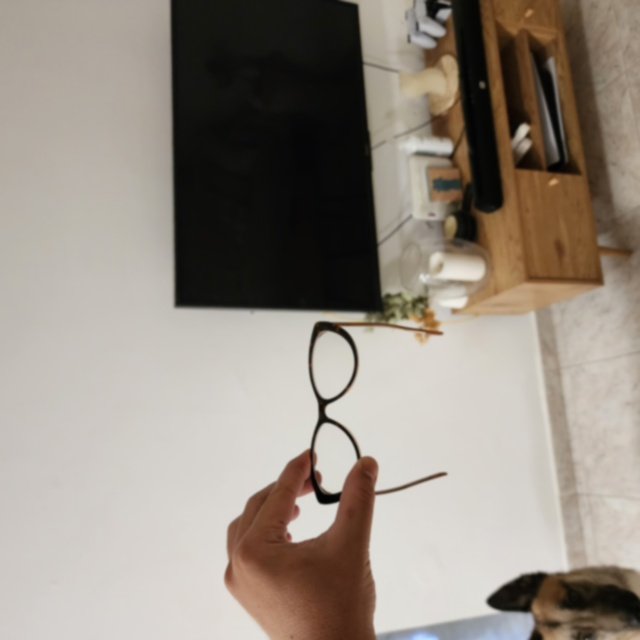glasses: (308, 317, 453, 506)
